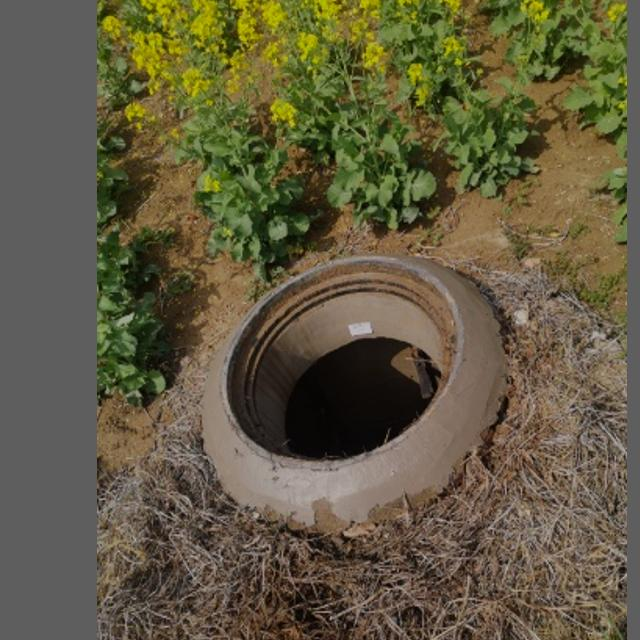lose: (203, 259, 523, 537)
